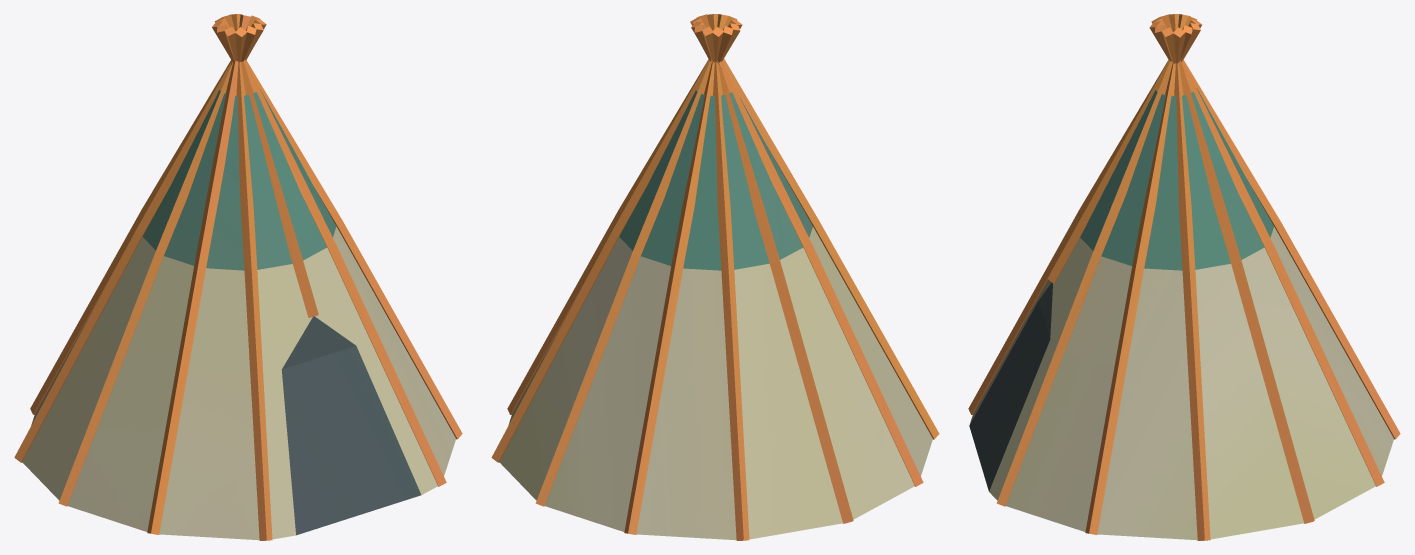
File: palat2.fbx
3 views of the same model, side by side, from view 1: azimuth 30°, elevation 25°; view 2: azimuth 150°, elevation 25°; view 3: azimuth 270°, elevation 25° (orthographic).
Parts seen in each view (by area): view 1: Cone.010; view 2: Cone.010; view 3: Cone.010.
Boxes of the visible parts, bbox=[...] form: Cone.010: bbox=[14, 14, 462, 540]; Cone.010: bbox=[491, 14, 939, 540]; Cone.010: bbox=[968, 14, 1400, 540].
Bounding box in the file's own units: 622 × 659 × 600.
